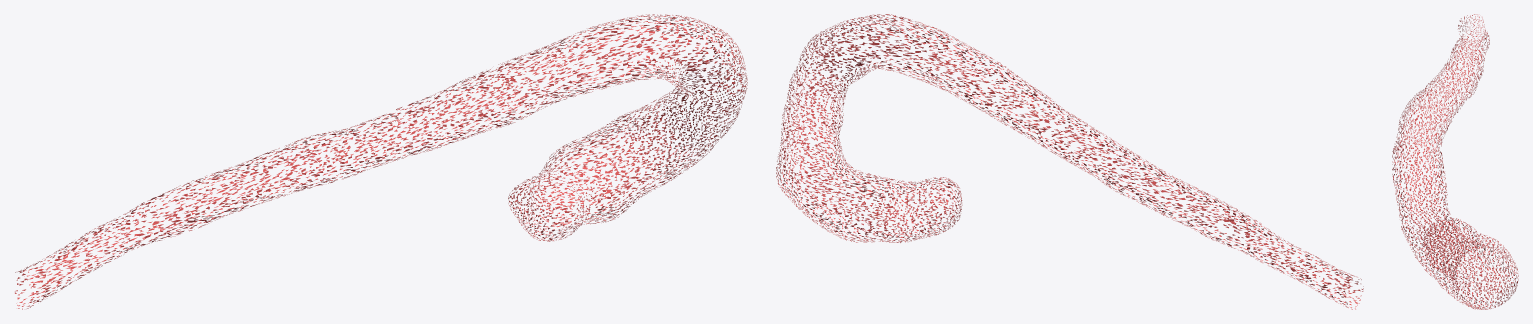
The model's file is aorta.glb.
3 renders of one model, left to right at view 1: azimuth 30°, elevation 25°; view 2: azimuth 150°, elevation 25°; view 3: azimuth 270°, elevation 25°, orthographic. The views are drawn at different scales.
Size of the model in its own units: 264 by 83.41 by 53.54.
